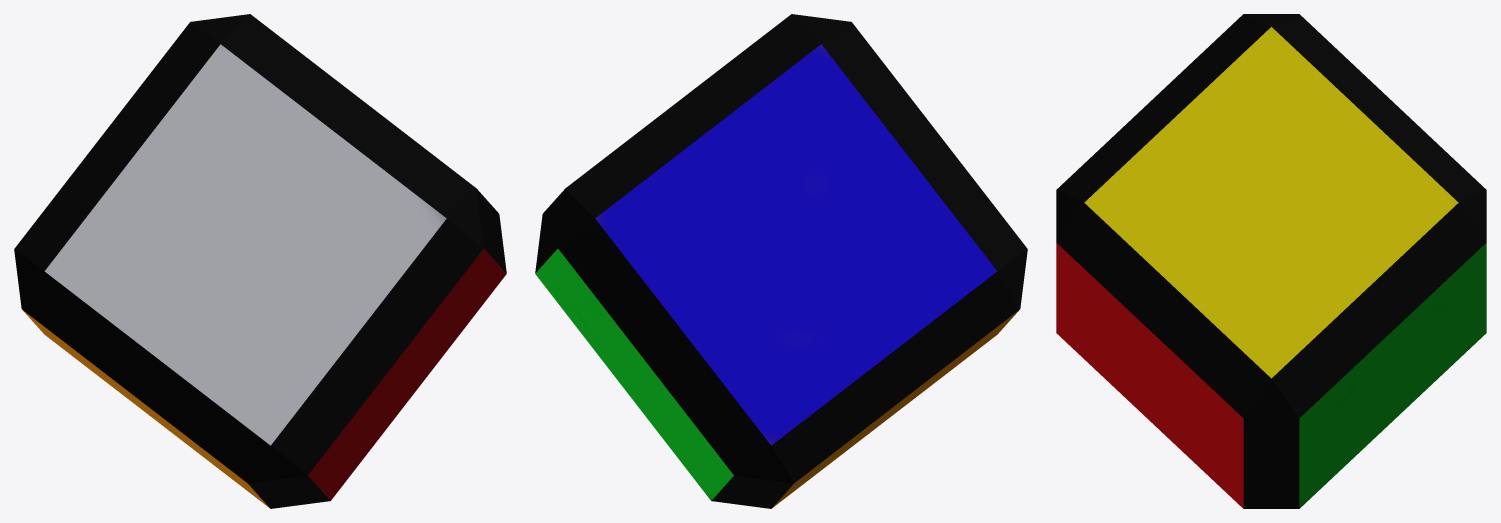
File: MiniCubikRubik.fbx
3 renders of one model, left to right at view 1: azimuth 30°, elevation 25°; view 2: azimuth 150°, elevation 25°; view 3: azimuth 270°, elevation 25°, orthographic. The views are drawn at different scales.
Parts seen in each view (by area): view 1: Mini Cubik Rubik; view 2: Mini Cubik Rubik; view 3: Mini Cubik Rubik.
Boxes of the visible parts, box(x1,y1,x2,y2) form: Mini Cubik Rubik: box(14, 14, 506, 508); Mini Cubik Rubik: box(535, 14, 1027, 508); Mini Cubik Rubik: box(1056, 14, 1486, 508).
Size of the model in its own units: 0.4303 by 0.4303 by 0.3646.
